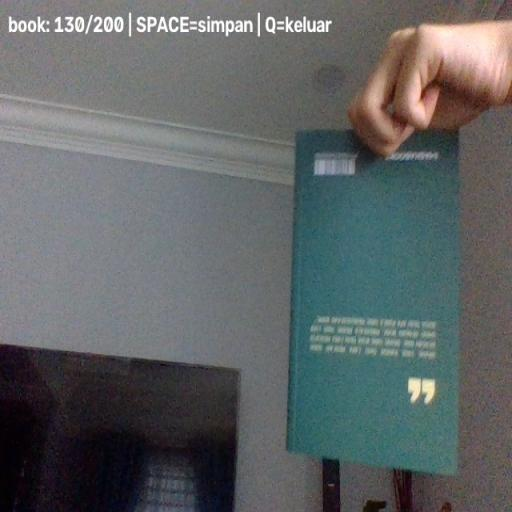Book: (286, 128, 462, 477)
